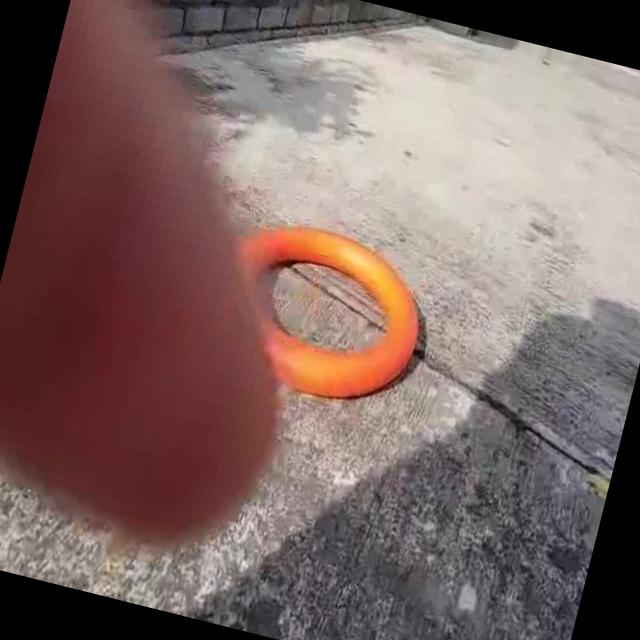note: (204, 211, 446, 407)
